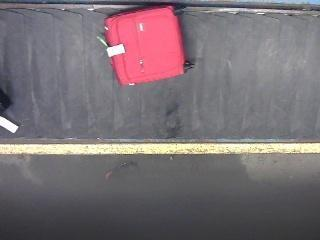Suitcase: (106, 6, 184, 85)
